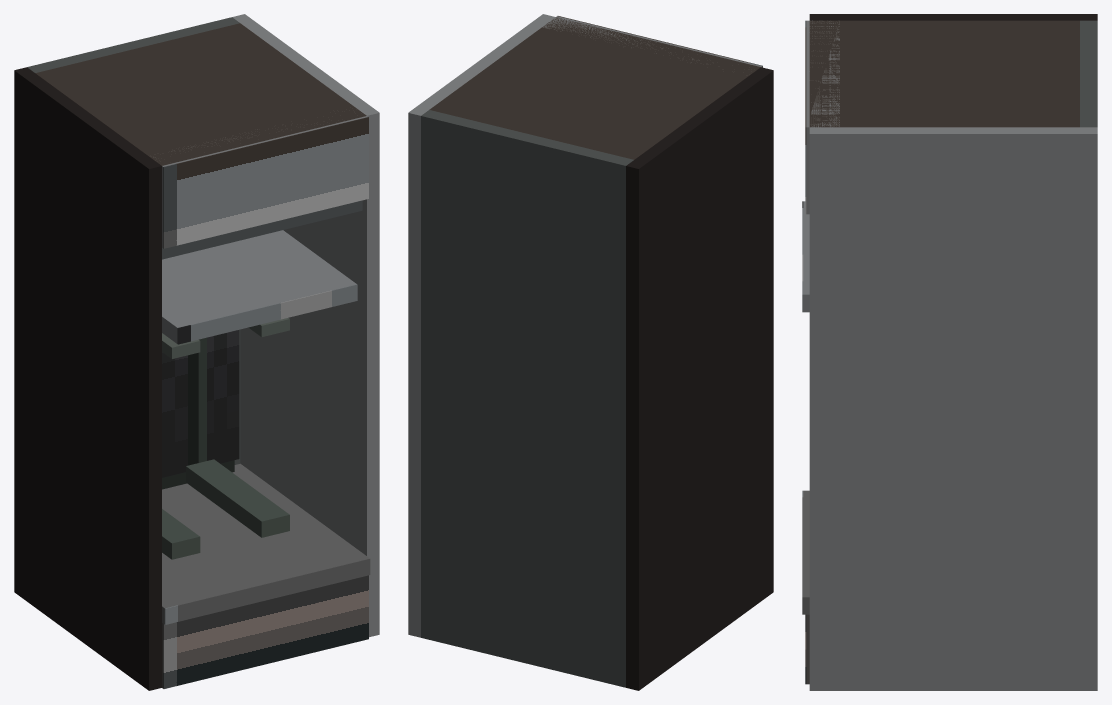
The model's file is CMU3DVendorM34EmptyRackCloud.glb.
The picture shows the model from 3 angles, left to right: view 1: azimuth 30°, elevation 25°; view 2: azimuth 150°, elevation 25°; view 3: azimuth 270°, elevation 25°; orthographic projection. The views are drawn at different scales.
Parts seen in each view (by area): view 1: left full-depth cabinet wall, right full-depth cabinet wall, roof, silver rack header original face, lower rack crossmember, rack lower plinth original face, upper crossmember, original woven rear liner original face, empty slot base cradle 19, lower rack crossmember original face, upper crossmember original face, top rack lip (+5 smaller); view 2: solid rear wall, left full-depth cabinet wall, roof, right full-depth cabinet wall, silver rack header; view 3: right full-depth cabinet wall, roof, left full-depth cabinet wall, solid rear wall, silver rack header, lower rack crossmember, upper crossmember.
Part boxes in pixels (x1,y1,x2,y2): left full-depth cabinet wall: (14,67,161,690); right full-depth cabinet wall: (232,14,379,637); roof: (35,23,366,165); silver rack header original face: (163,117,368,248); lower rack crossmember: (162,463,369,624); rack lower plinth original face: (163,575,368,688); upper crossmember: (162,230,356,343); original woven rear liner original face: (162,330,239,477); empty slot base cradle 19: (186,459,289,537); lower rack crossmember original face: (164,558,370,624); upper crossmember original face: (177,284,357,344); top rack lip: (162,200,362,259); solid rear wall: (421,110,633,687); left full-depth cabinet wall: (626,67,773,690); roof: (429,17,760,159); right full-depth cabinet wall: (408,14,555,637); silver rack header: (543,16,762,67); right full-depth cabinet wall: (809,127,1097,690); roof: (809,20,1079,127); left full-depth cabinet wall: (809,14,1097,20); solid rear wall: (1080,20,1097,127); silver rack header: (806,20,839,214); lower rack crossmember: (803,490,809,614); upper crossmember: (803,201,809,312).
Size of the model in its own units: 0.5625 by 1.22 by 0.584.
Materials: 21 (5 with a texture image).
